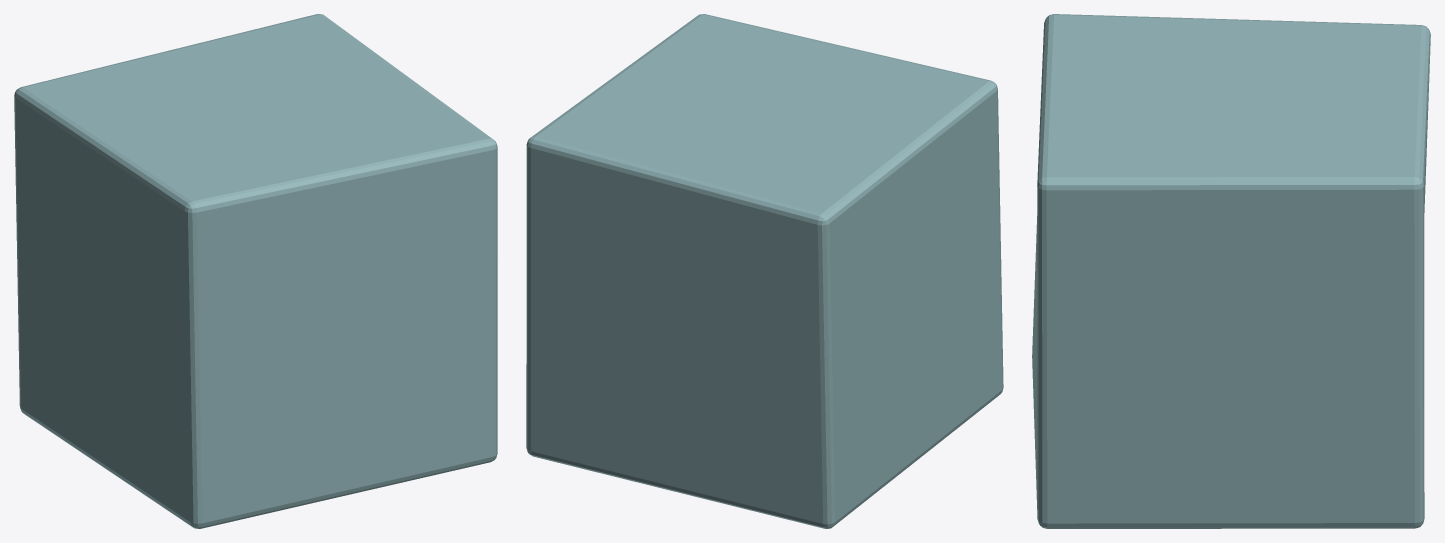
File: Brick_001.fbx
3 renders of one model, left to right at view 1: azimuth 30°, elevation 25°; view 2: azimuth 150°, elevation 25°; view 3: azimuth 270°, elevation 25°, orthographic. The views are drawn at different scales.
Visible parts, largest first — view 1: brick_001; view 2: brick_001; view 3: brick_001.
Boxes of the visible parts, left/top/right/bottom form: brick_001: left=14, top=14, right=497, bottom=528; brick_001: left=526, top=14, right=1003, bottom=528; brick_001: left=1032, top=14, right=1430, bottom=528.
Size of the model in its own units: 200 by 206 by 206.
